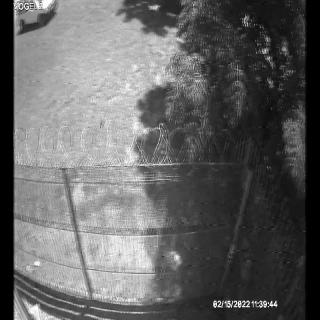car: (16, 0, 56, 30)
